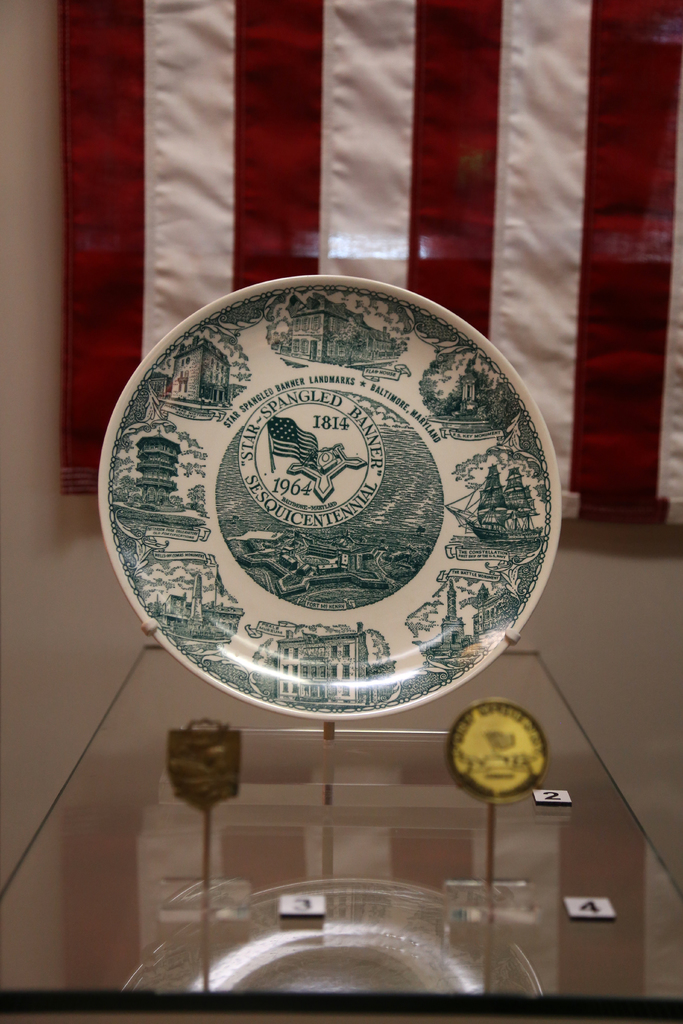plate: (105, 272, 576, 744)
